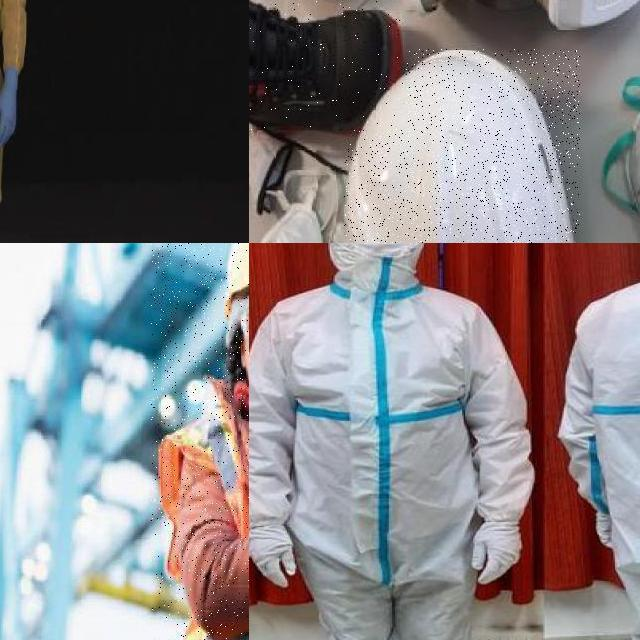BOOTS: (249, 0, 406, 130)
GLOVE: (459, 519, 527, 587), (249, 522, 301, 584), (0, 68, 16, 143)
HELMET: (344, 49, 580, 243)
VEST: (158, 402, 249, 640)
